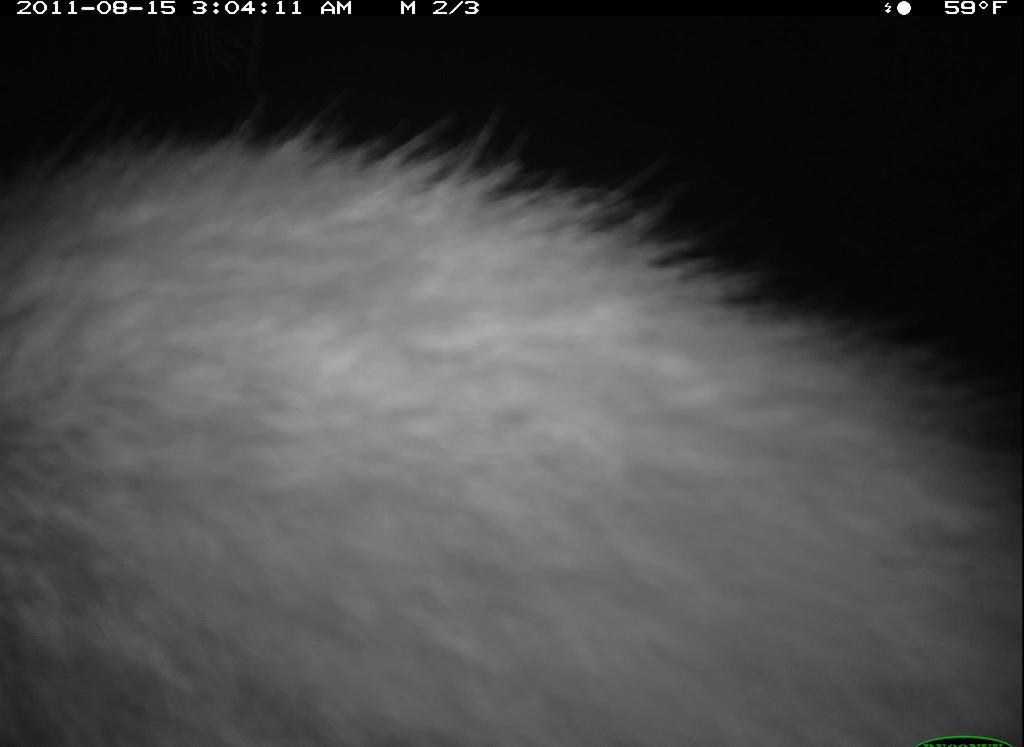raccoon: (3, 116, 1017, 747)
